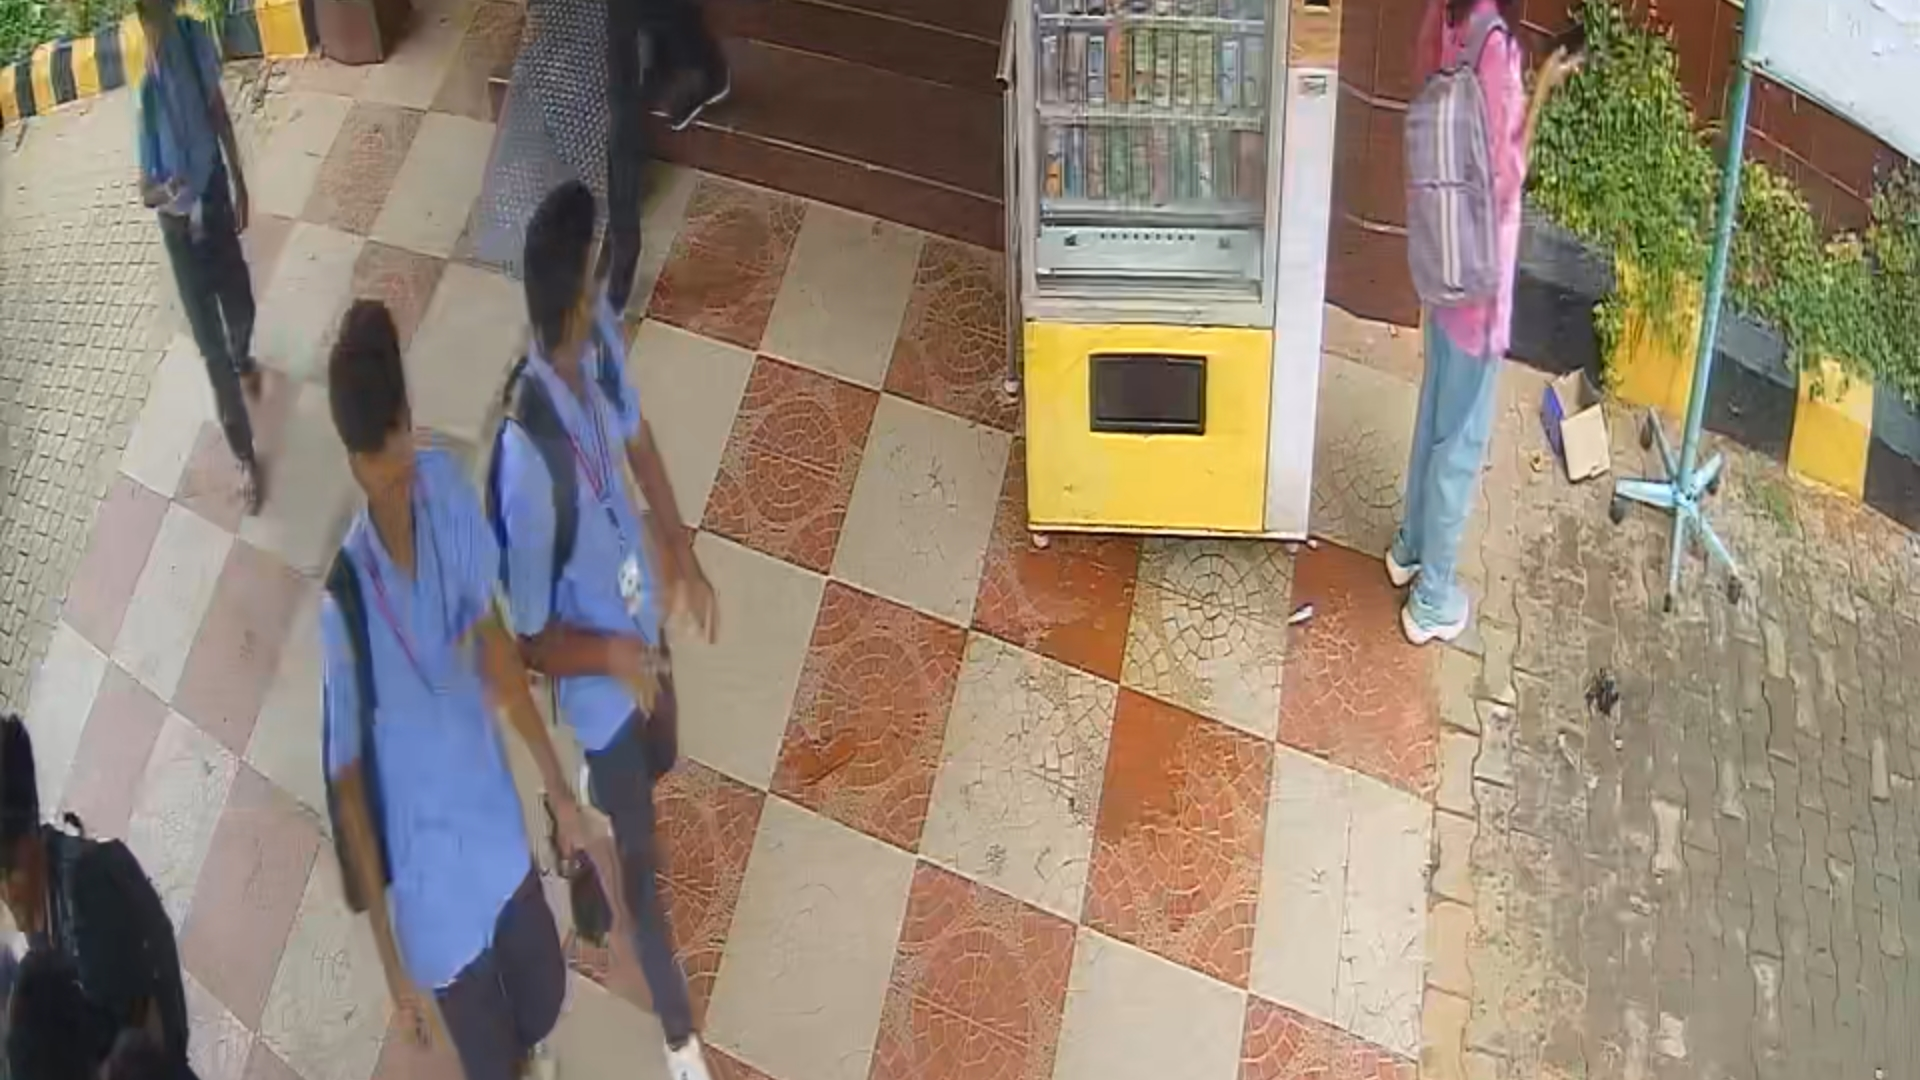not intruder: (442, 179, 760, 1080), (291, 295, 603, 1065)
